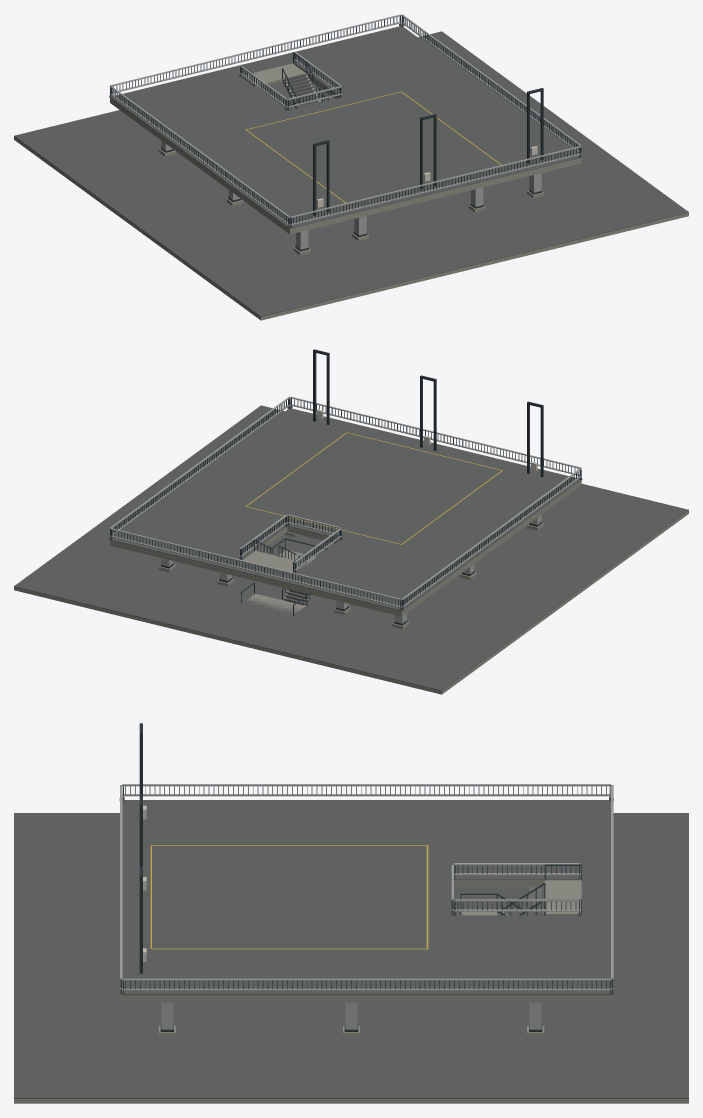
Rendered from visual-far.glb.
3 views of the same model, one above another, from view 1: azimuth 30°, elevation 25°; view 2: azimuth 150°, elevation 25°; view 3: azimuth 270°, elevation 25° (orthographic). The views are drawn at different scales.
Visible parts, largest first — view 1: 石铺面与混凝土承板 (×2), 石脚与连续金属护栏 (×4), 实体停泊标记与三座开放勤务架, 双跑连续梁与实体踏步; view 2: 石铺面与混凝土承板 (×2), 石脚与连续金属护栏 (×4), 实体停泊标记与三座开放勤务架, 双跑连续梁与实体踏步; view 3: 石铺面与混凝土承板 (×2), 石脚与连续金属护栏 (×6), 实体停泊标记与三座开放勤务架, 双跑连续梁与实体踏步.
Boxes of the visible parts, x1,y1,x2,y2 form: 石铺面与混凝土承板 (×2): (14, 26, 688, 320); 石脚与连续金属护栏 (×4): (109, 14, 582, 228); 实体停泊标记与三座开放勤务架: (245, 88, 543, 215); 双跑连续梁与实体踏步: (241, 52, 329, 109); 石铺面与混凝土承板 (×2): (14, 405, 688, 694); 石脚与连续金属护栏 (×4): (109, 396, 582, 610); 实体停泊标记与三座开放勤务架: (245, 349, 543, 544); 双跑连续梁与实体踏步: (240, 538, 327, 615); 石铺面与混凝土承板 (×2): (14, 800, 688, 1103); 石脚与连续金属护栏 (×6): (119, 784, 613, 994); 实体停泊标记与三座开放勤务架: (139, 723, 428, 973); 双跑连续梁与实体踏步: (460, 864, 581, 915).
Bounding box in the file's own units: 44 × 11.6 × 44.
9 materials, 9 textured.
